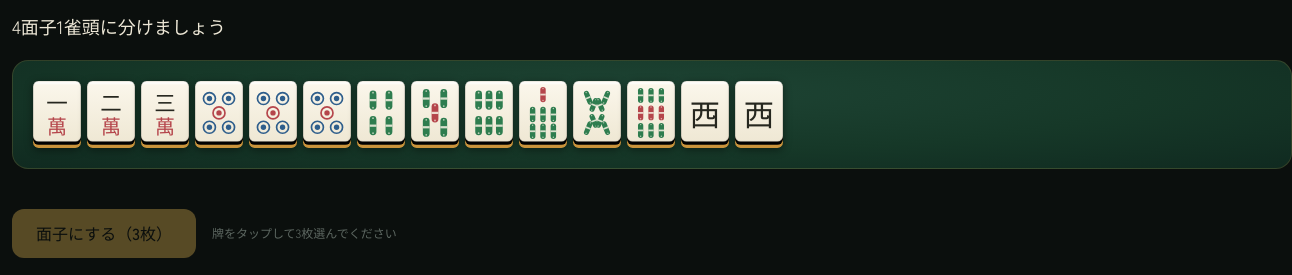
GroupBuildStepView › 再タップで選択を解除できる
Click the button named "一萬": (57, 114) [33,81,81,148]
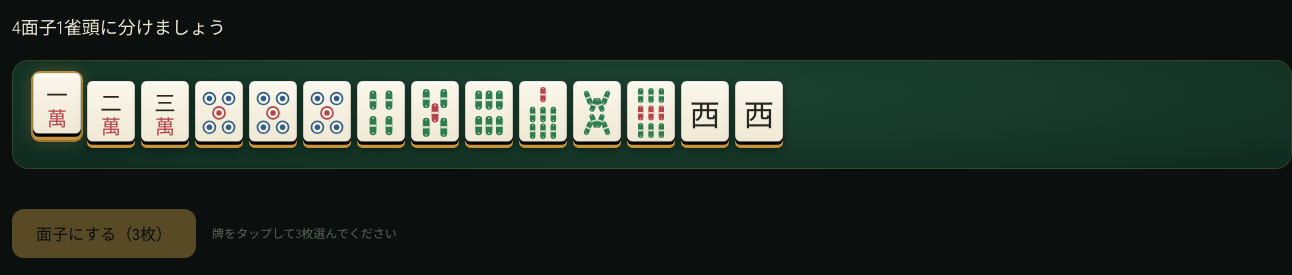
Click the button named "二萬": (111, 114) [87,81,135,148]
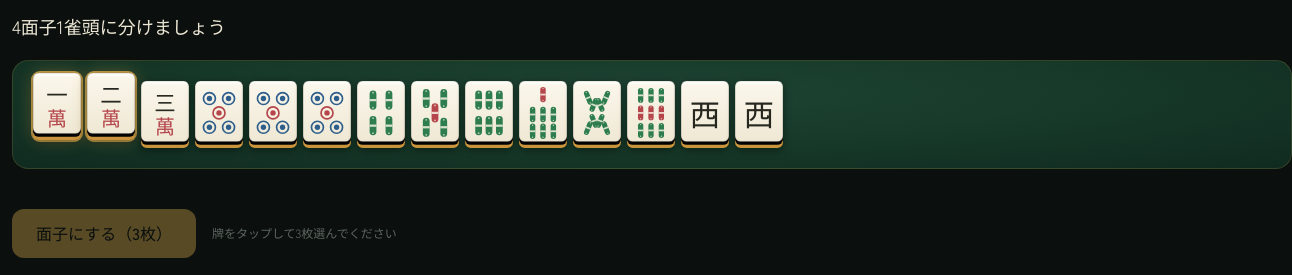
Click the button named "三萬": (165, 114) [141,81,189,148]
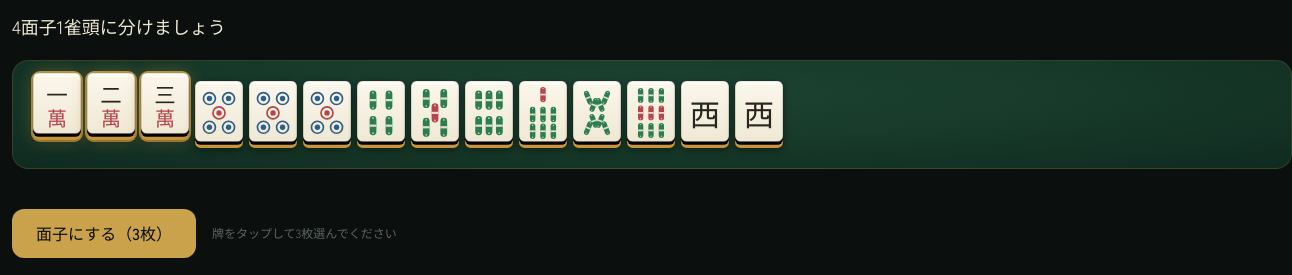
Expected: the button "面子にする（3枚）" is enabled, [12,209,196,258]
Click the button named "三萬": (165, 106) [141,73,189,140]
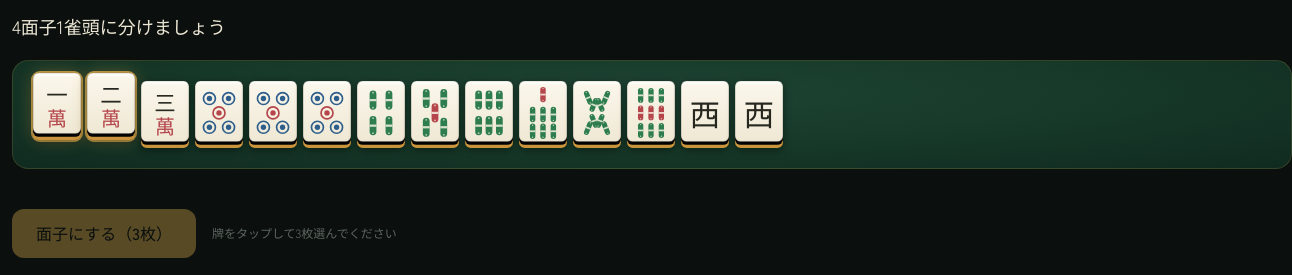
Expected: the button "面子にする（3枚）" is disabled, [12,209,196,258]
